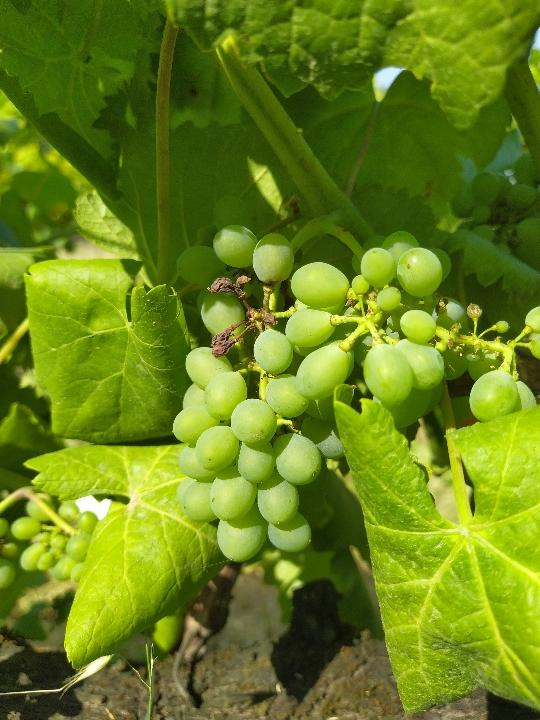grape: (170, 192, 538, 570)
